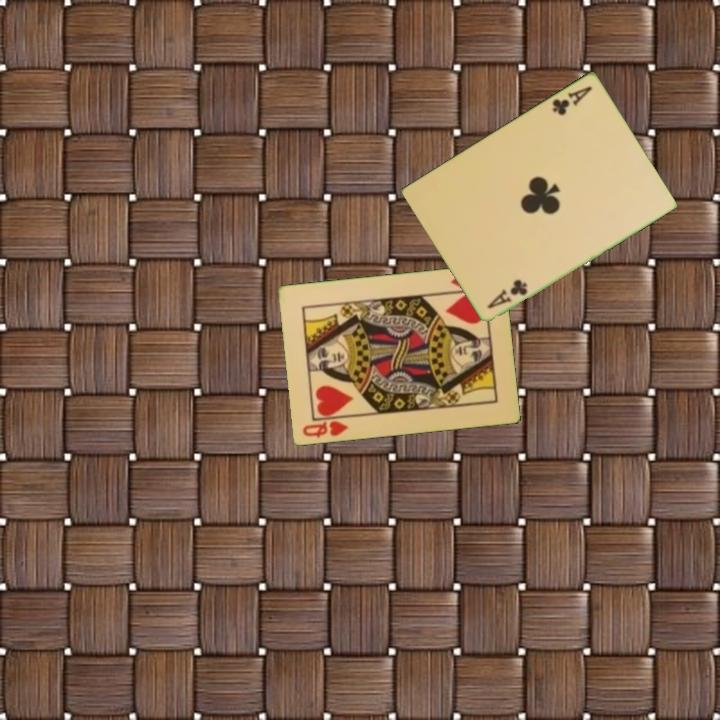Ac: (484, 275, 531, 311), (549, 82, 595, 118)
Qh: (299, 417, 351, 441)
